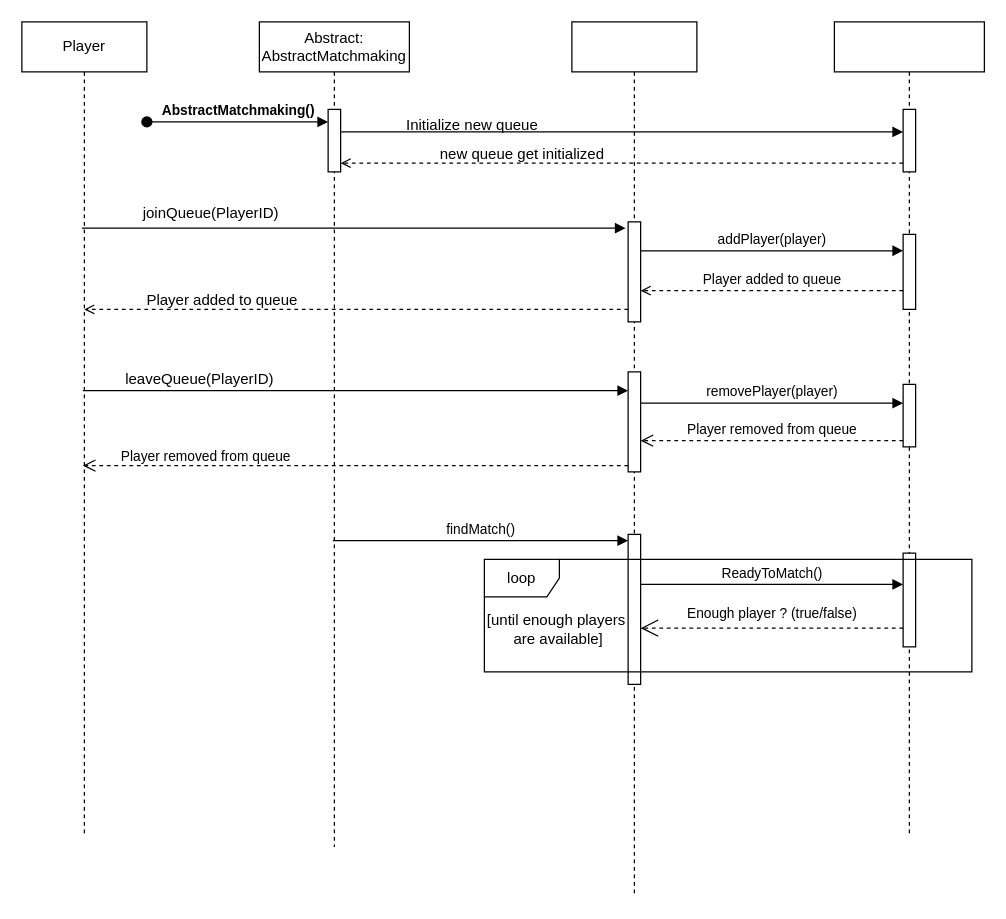
The diagram is 1006 pixels wide and 919 high, and some of its shapes have lost their labels. The centre of each missing label's shape, as x and y in pixels:
"Concrete: Matchmaking" goes at (634,459).
"Queue: MatchmakingQueue" goes at (908,427).
